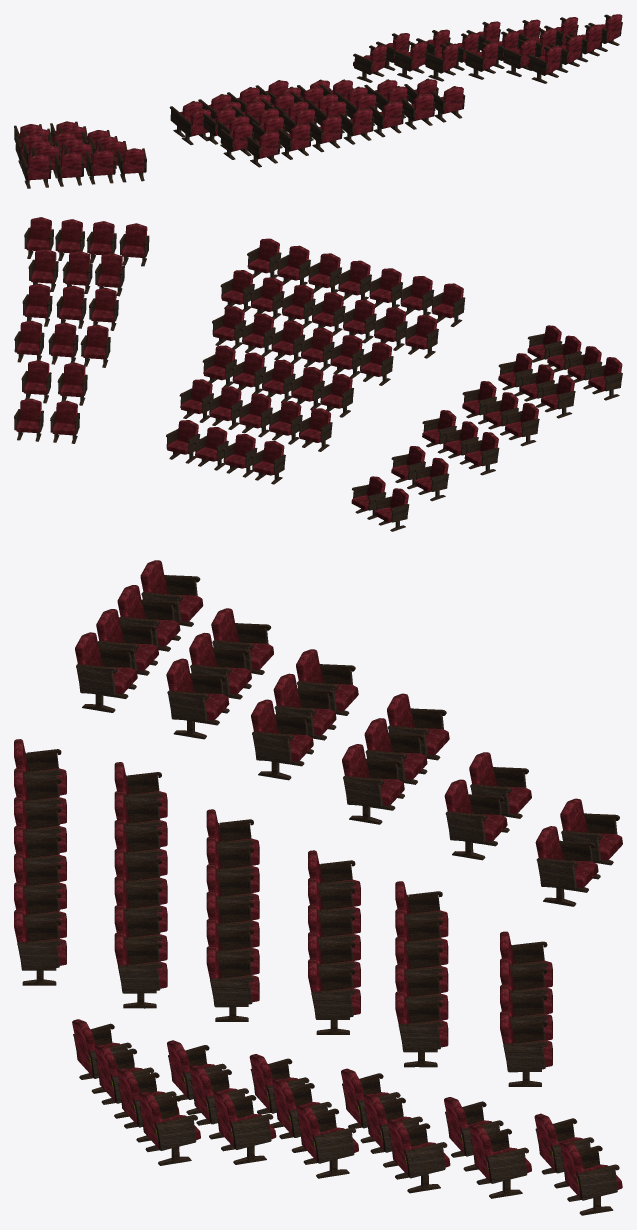
The model's file is Chairs_Test.fbx.
The picture shows the model from 3 angles, top to bottom: view 1: azimuth 30°, elevation 25°; view 2: azimuth 150°, elevation 25°; view 3: azimuth 270°, elevation 25°; orthographic projection. The views are drawn at different scales.
Visible parts, largest first — view 1: Chair81 (×2), Chair78 (×2), Chair79 (×2), Chair80 (×2), Chair71 (×2), Chair75 (×2), Chair72 (×2), Chair65, Chair63, Chair67, Chair76 (×2), Chair77 (×2) (+35 smaller); view 2: Chair65 (×2), Chair71 (×2), Chair81 (×2), Chair67 (×2), Chair75 (×2), Chair72 (×2), Chair66 (×2), Chair68 (×2), Chair69 (×2), Chair74 (×2), Chair77 (×2), Chair70 (×2) (+39 smaller); view 3: Chair80 (×2), Chair74 (×2), Chair68 (×2), Chair69 (×2), Chair66 (×2), Chair77 (×2), Chair65 (×2), Chair67 (×2), Chair76 (×2), Chair70 (×2), Chair73 (×2), Chair81 (×2) (+39 smaller).
Part boxes in pixels (left/top/right/bottom): Chair81 (×2): left=21, top=46, right=562, bottom=188; Chair78 (×2): left=54, top=35, right=583, bottom=186; Chair79 (×2): left=86, top=24, right=603, bottom=184; Chair80 (×2): left=117, top=14, right=622, bottom=182; Chair71 (×2): left=15, top=43, right=459, bottom=168; Chair75 (×2): left=31, top=39, right=536, bottom=178; Chair72 (×2): left=23, top=42, right=499, bottom=164; Chair65: left=353, top=45, right=387, bottom=82; Chair63: left=246, top=131, right=280, bottom=167; Chair67: left=393, top=41, right=427, bottom=79; Chair76 (×2): left=64, top=28, right=557, bottom=175; Chair77 (×2): left=98, top=17, right=578, bottom=165; Chair65 (×2): left=50, top=400, right=409, bottom=531; Chair71 (×2): left=80, top=324, right=499, bottom=475; Chair81 (×2): left=119, top=223, right=622, bottom=400; Chair67 (×2): left=57, top=362, right=449, bottom=501; Chair75 (×2): left=95, top=253, right=575, bottom=418; Chair72 (×2): left=89, top=287, right=539, bottom=446; Chair66 (×2): left=14, top=398, right=386, bottom=519; Chair68 (×2): left=21, top=360, right=425, bottom=489; Chair69 (×2): left=14, top=320, right=456, bottom=453; Chair74 (×2): left=22, top=283, right=496, bottom=424; Chair77 (×2): left=28, top=249, right=532, bottom=396; Chair70 (×2): left=48, top=322, right=478, bottom=464; Chair80 (×2): left=75, top=632, right=200, bottom=1165; Chair74 (×2): left=251, top=699, right=358, bottom=1178; Chair68 (×2): left=444, top=779, right=531, bottom=1198; Chair69 (×2): left=342, top=744, right=450, bottom=1193; Chair66 (×2): left=535, top=826, right=622, bottom=1215; Chair77 (×2): left=166, top=658, right=276, bottom=1164; Chair65 (×2): left=534, top=798, right=622, bottom=1188; Chair67 (×2): left=444, top=752, right=531, bottom=1171; Chair76 (×2): left=189, top=632, right=251, bottom=1139; Chair70 (×2): left=363, top=718, right=427, bottom=1167; Chair73 (×2): left=272, top=673, right=336, bottom=1152; Chair81 (×2): left=72, top=560, right=203, bottom=1093.
Bounding box in the file's own units: 4.67 × 0.8273 × 2.18.
3 materials, 2 textured.
